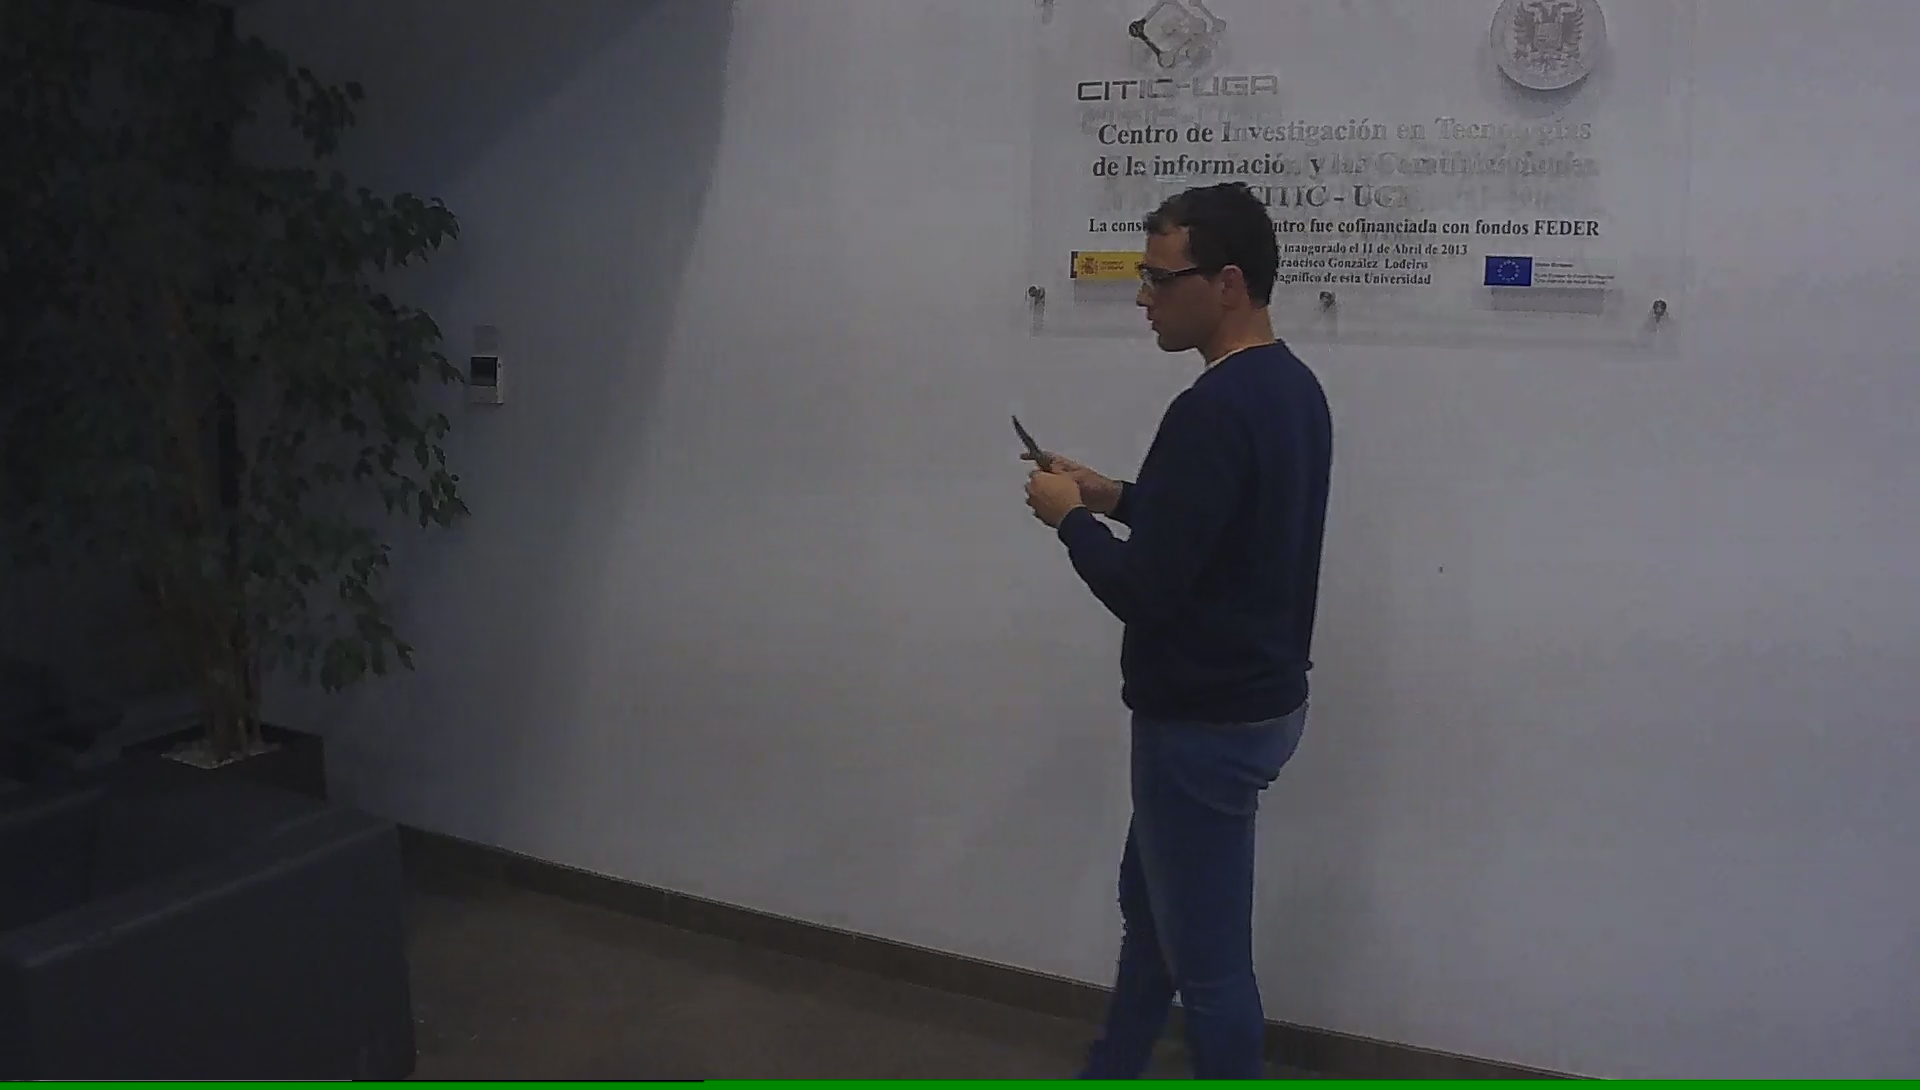knife: (1000, 402, 1069, 485)
